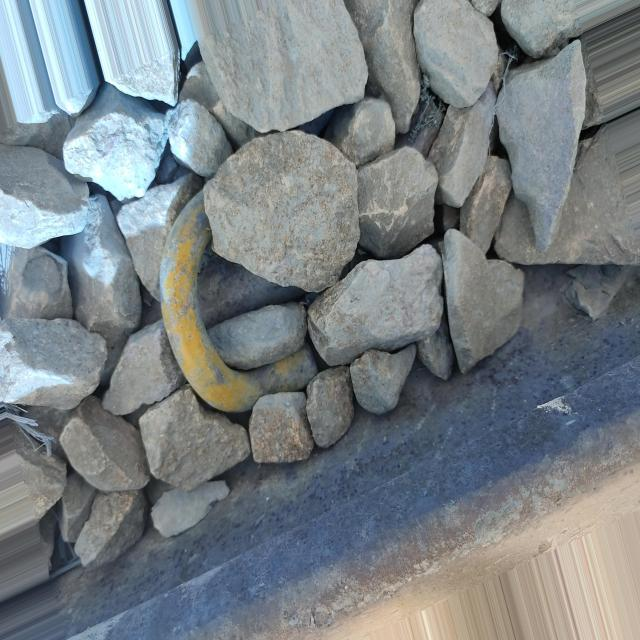Good Fasteners: (160, 196, 317, 413)
